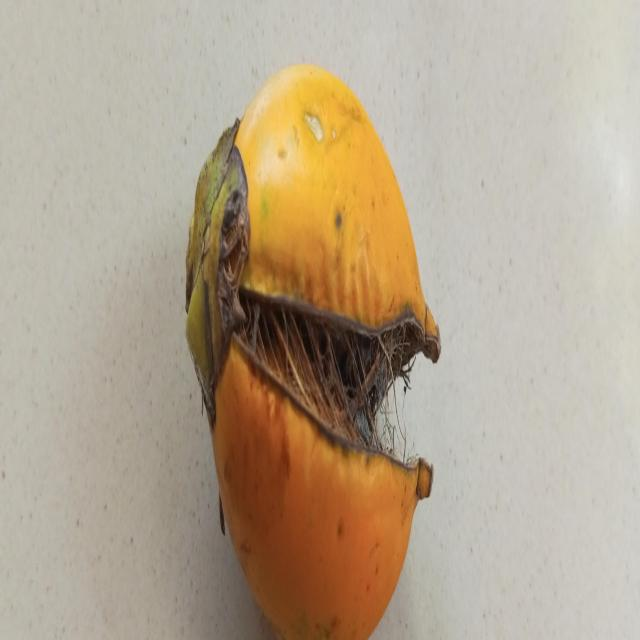damaged: (186, 65, 440, 640)
